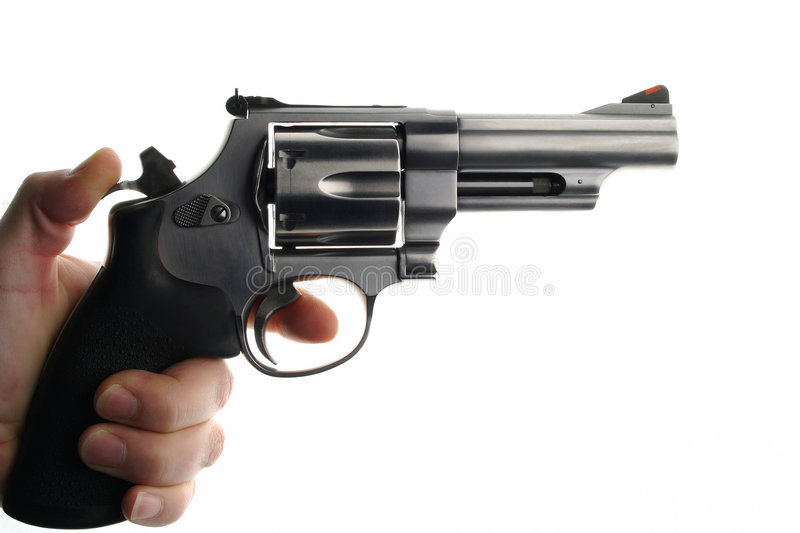pistol: (1, 23, 754, 533)
